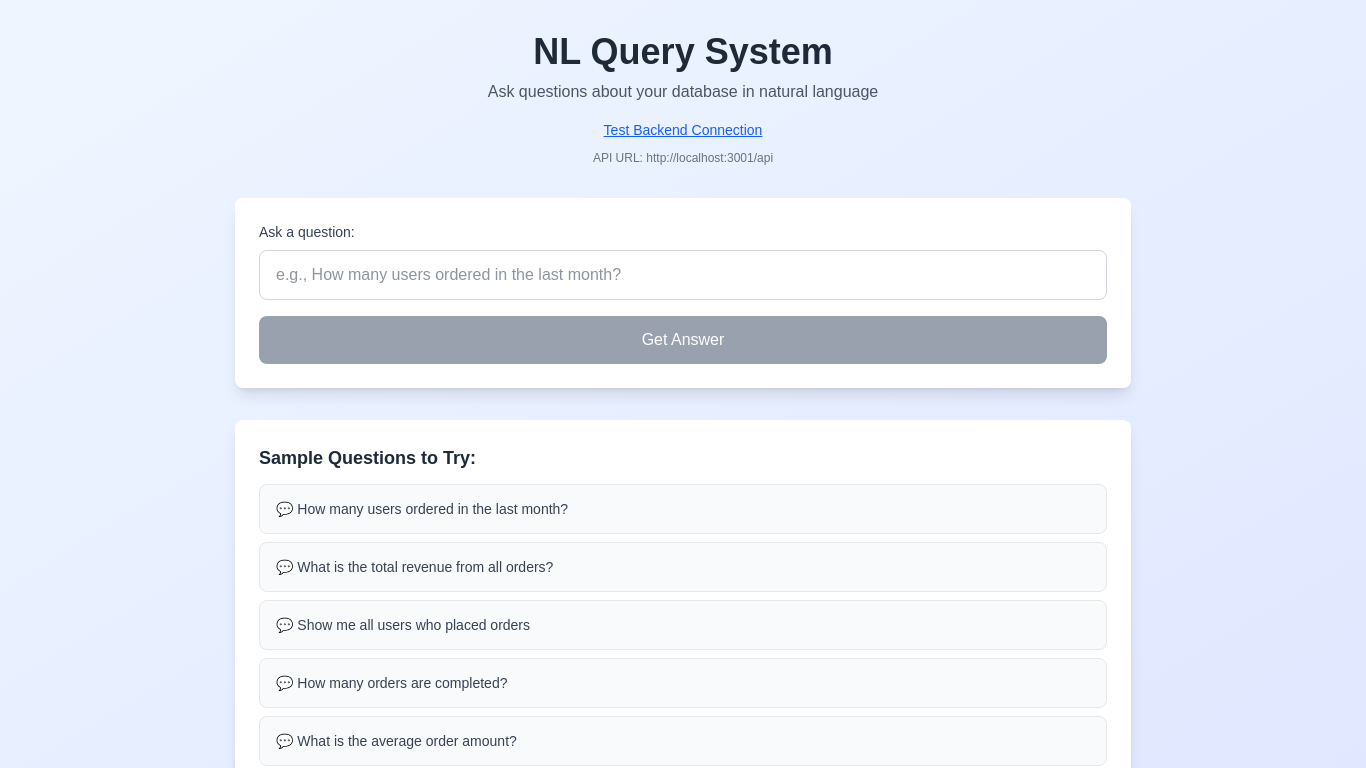
Test: Home Page › displays loading state when submitting
Type "Test question" into the field with placeholder "e.g., How many users ordered in the last month?". click: coordinates (683, 275)
box: x1=259 y1=250 x2=1107 y2=300
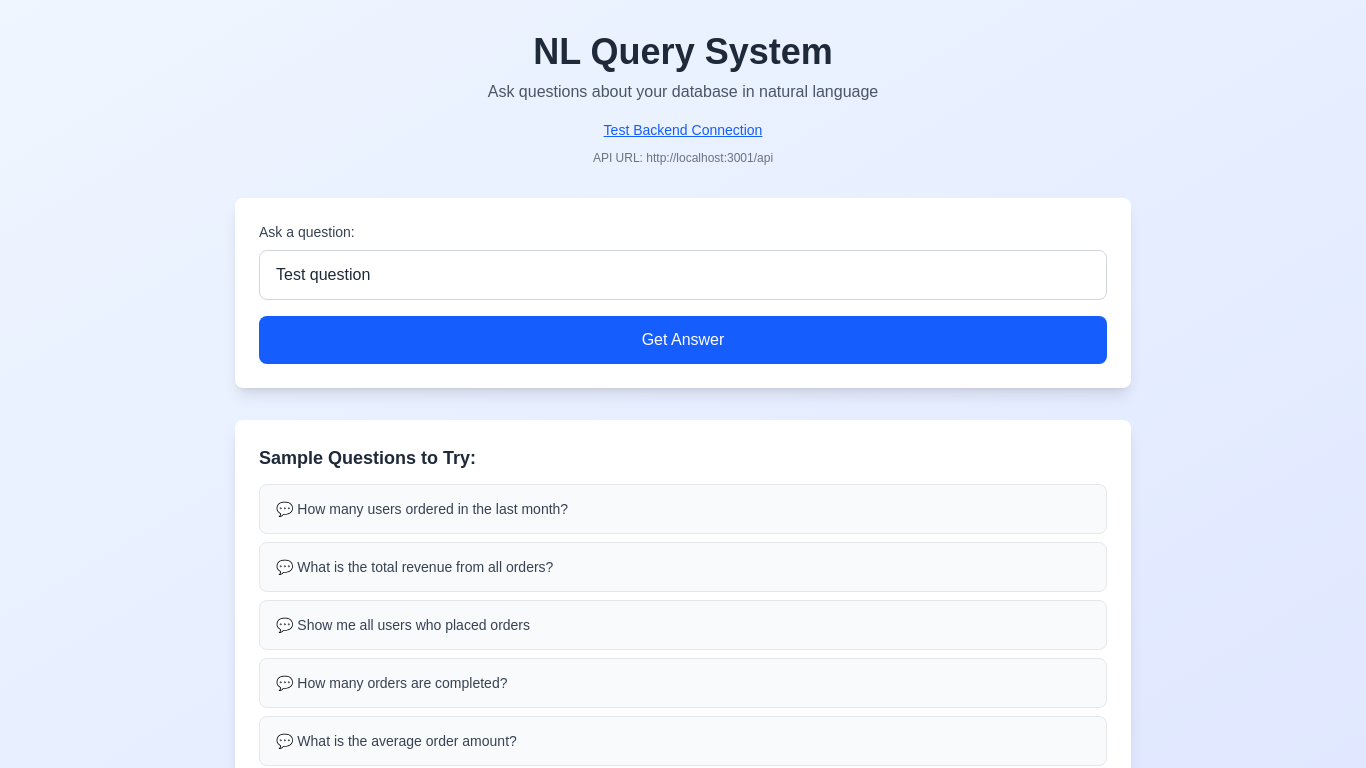
Click the button "Get Answer". click: coordinates (683, 340)
box: x1=259 y1=316 x2=1107 y2=364
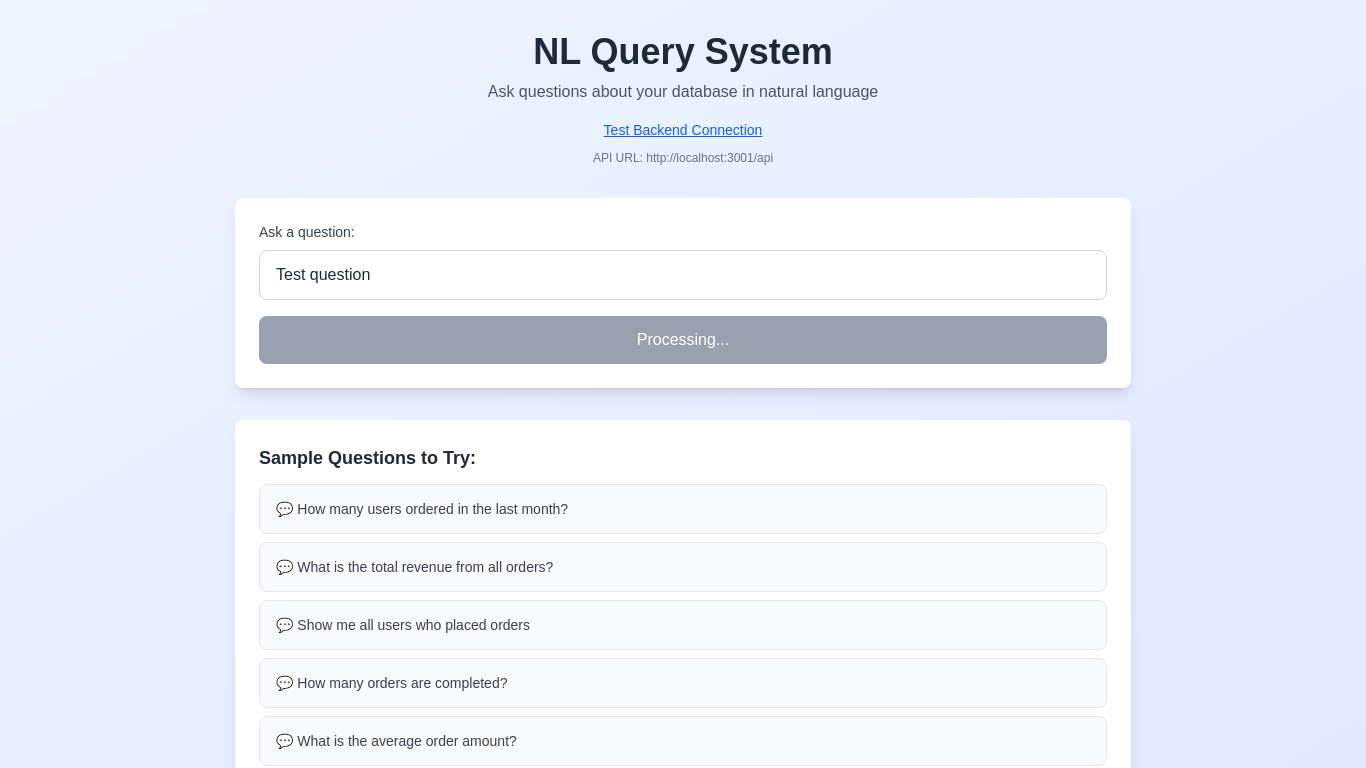
Expected: the button "Processing..." is shown, x1=259 y1=316 x2=1107 y2=364
